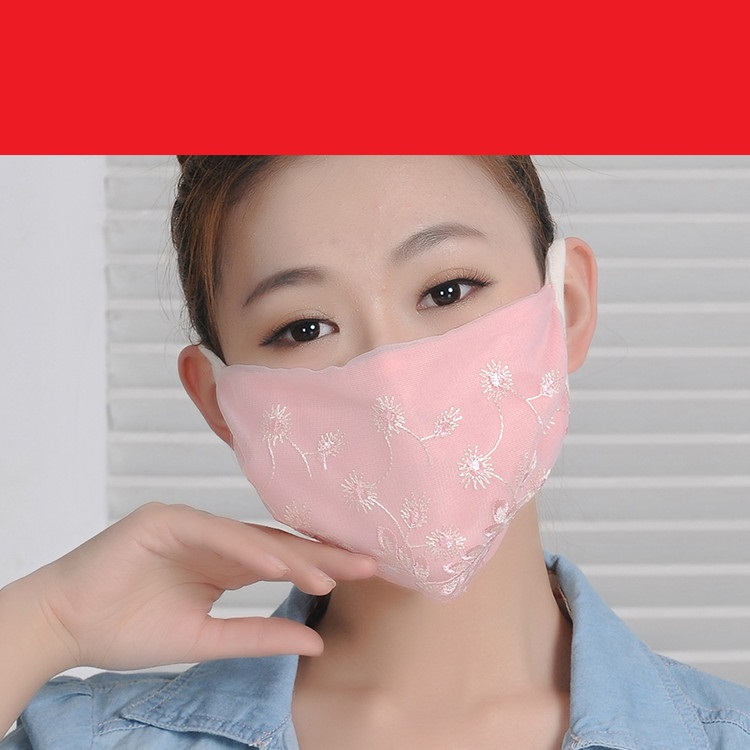face_mask: (211, 140, 552, 568)
